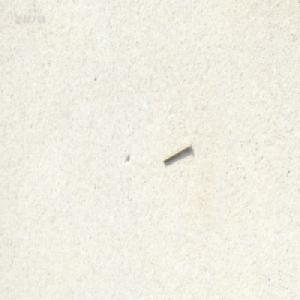Bolt: (161, 140, 190, 164)
